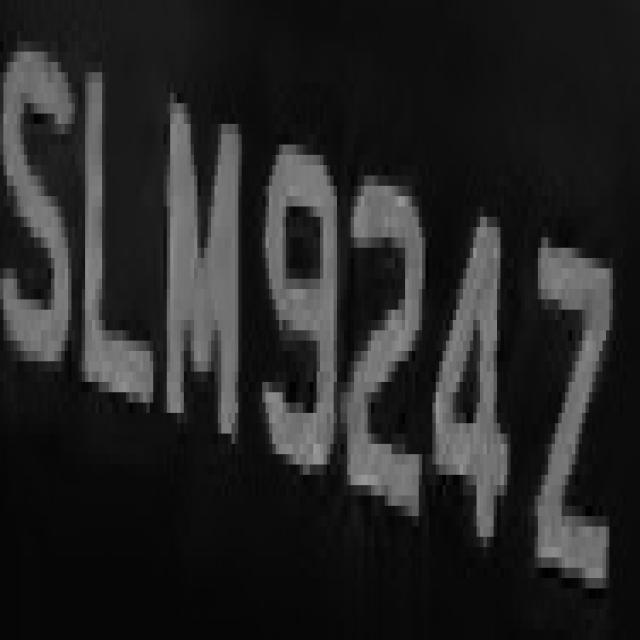2: (340, 134, 432, 527)
4: (426, 176, 514, 547)
9: (252, 93, 340, 495)
L: (71, 41, 160, 434)
M: (160, 62, 238, 475)
S: (0, 10, 71, 392)
Z: (534, 196, 620, 609)
